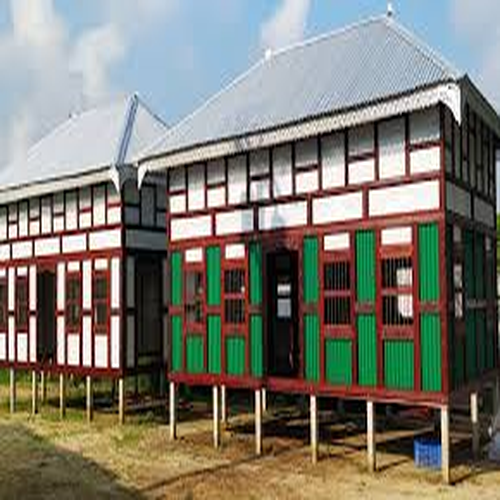Tin-shade House: (155, 11, 486, 435), (3, 91, 184, 415)
